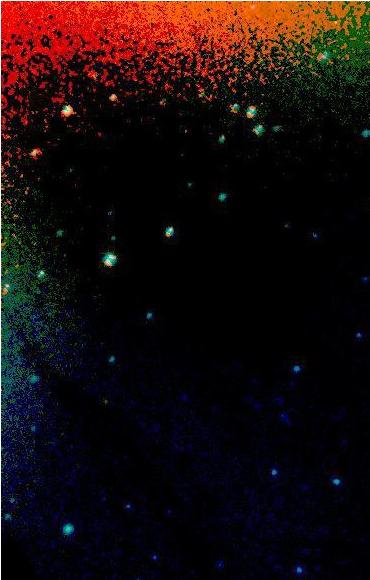star: (91, 386, 121, 416)
